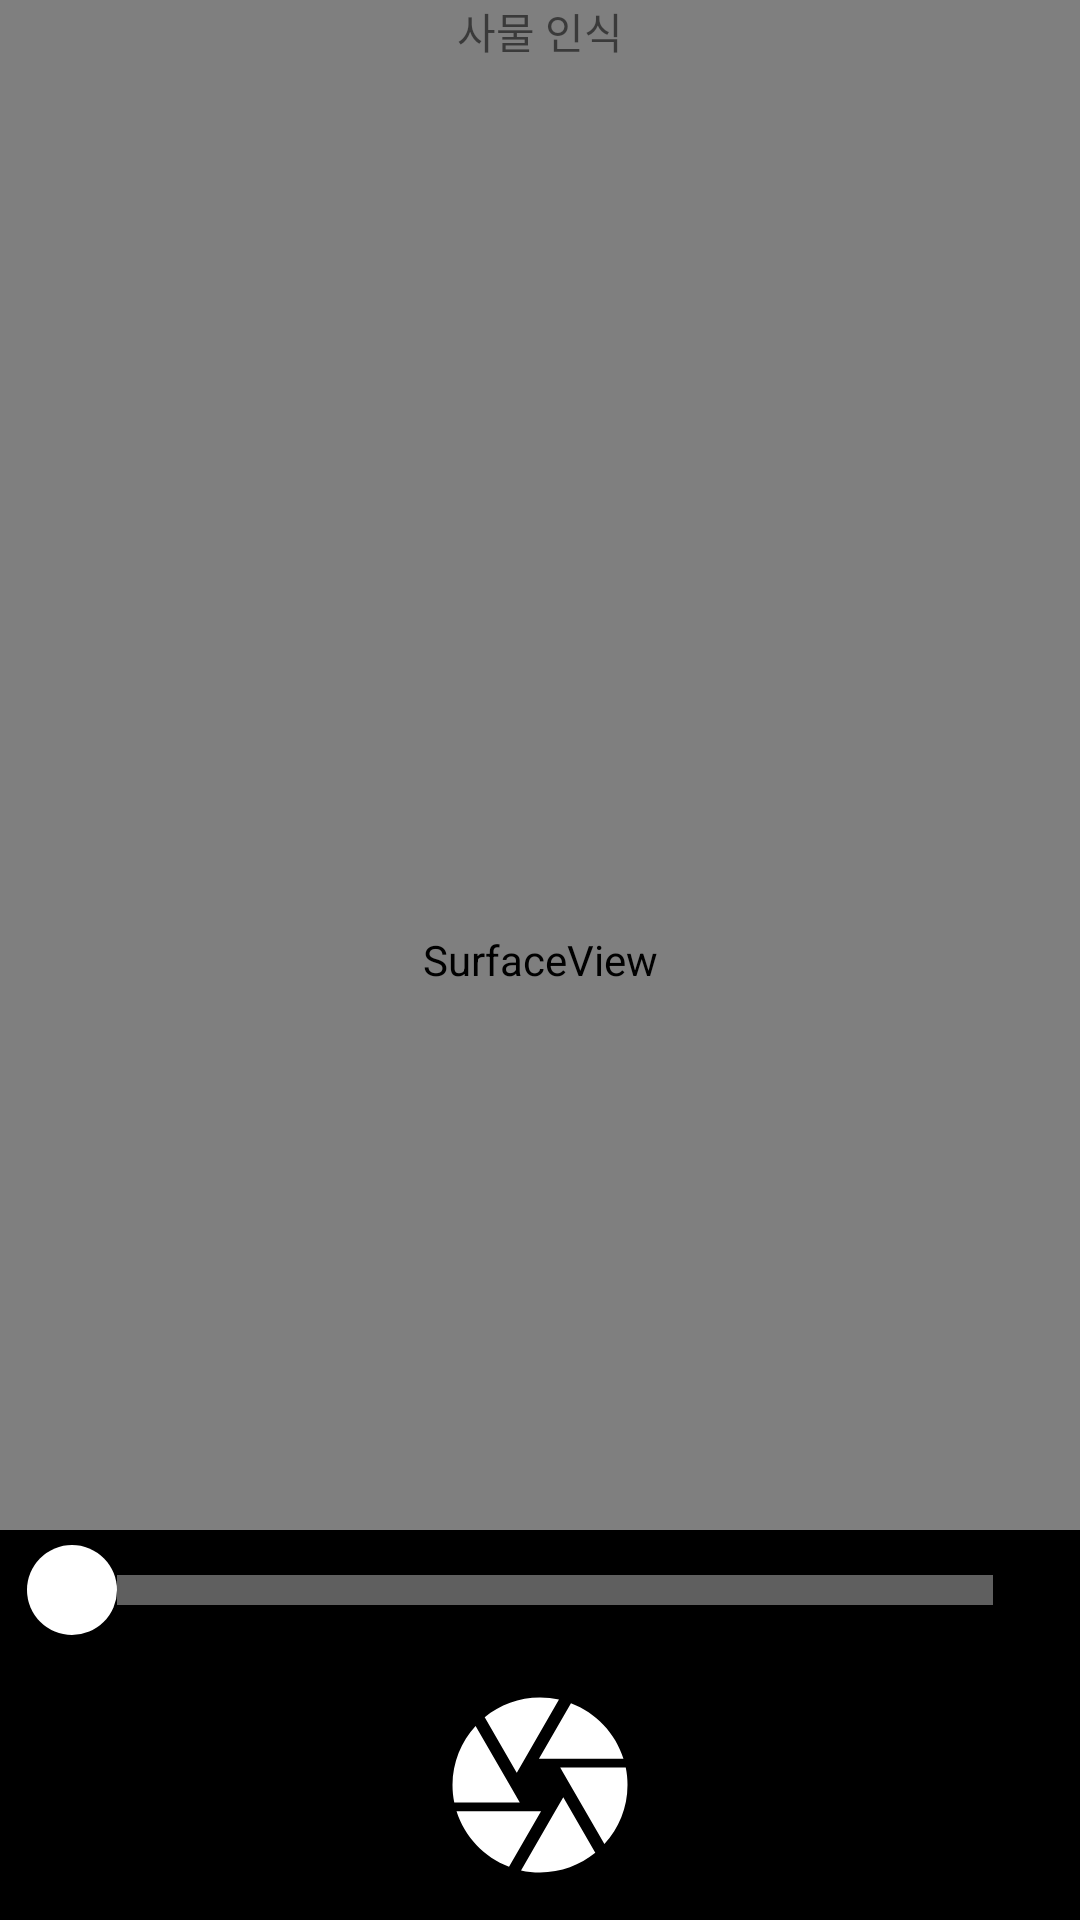

Point at icon controls on the screen. Image size 1080×1920, points as (x=x, y=y).
camera: (x=540, y=1785)
